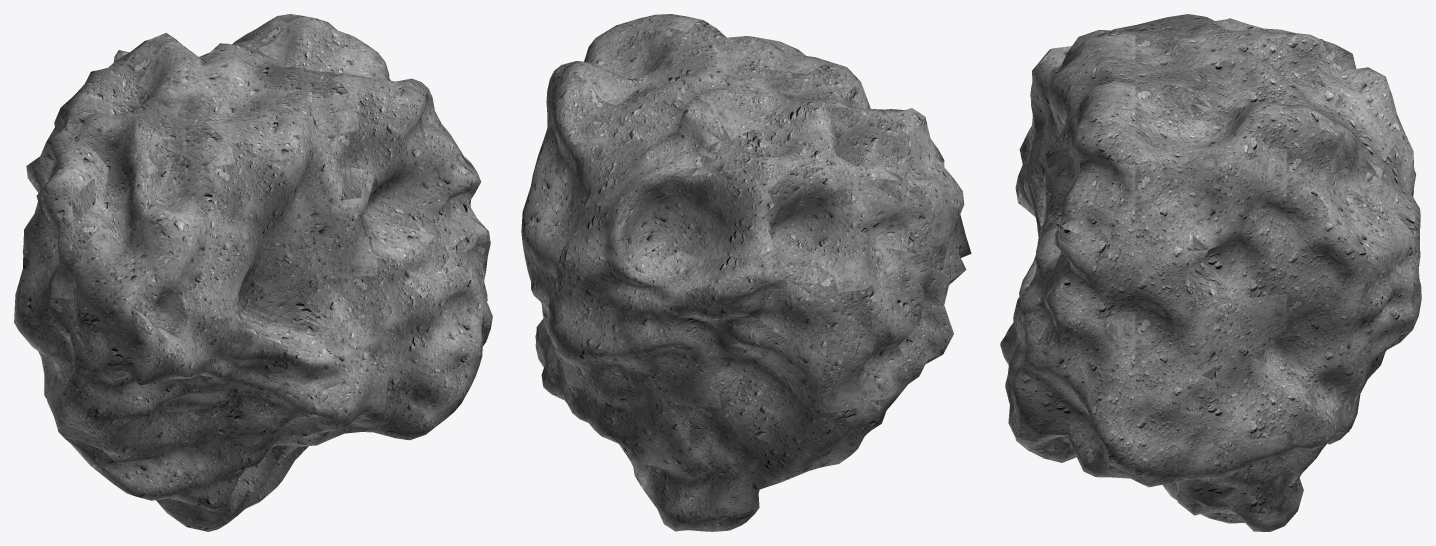
Rendered from Asteroid1.obj.
3 views of the same model, side by side, from view 1: azimuth 30°, elevation 25°; view 2: azimuth 150°, elevation 25°; view 3: azimuth 270°, elevation 25° (orthographic). The views are drawn at different scales.
Visible parts, largest first — view 1: default01; view 2: default01; view 3: default01.
Boxes of the visible parts, <box> form: default01: <box>14,14,492,531</box>; default01: <box>521,14,971,531</box>; default01: <box>1000,14,1421,531</box>.
Bounding box in the file's own units: 67.3 × 71.11 × 55.67.
1 material, 1 textured.
